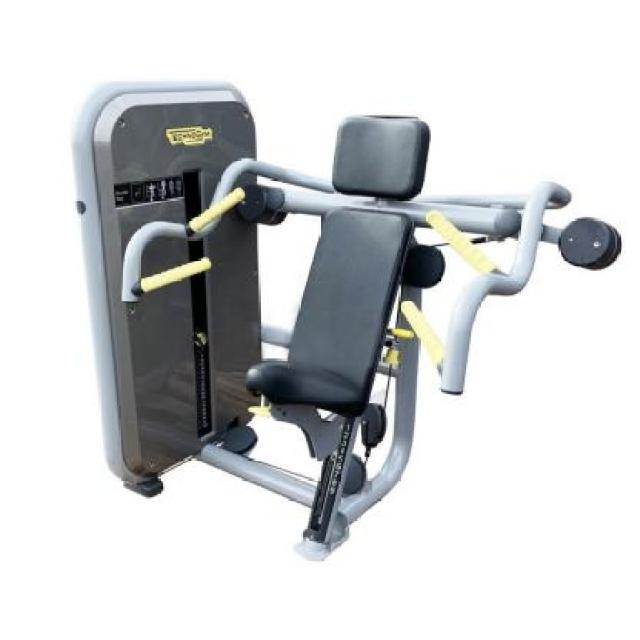shoulder press machine: (70, 75, 622, 563)
